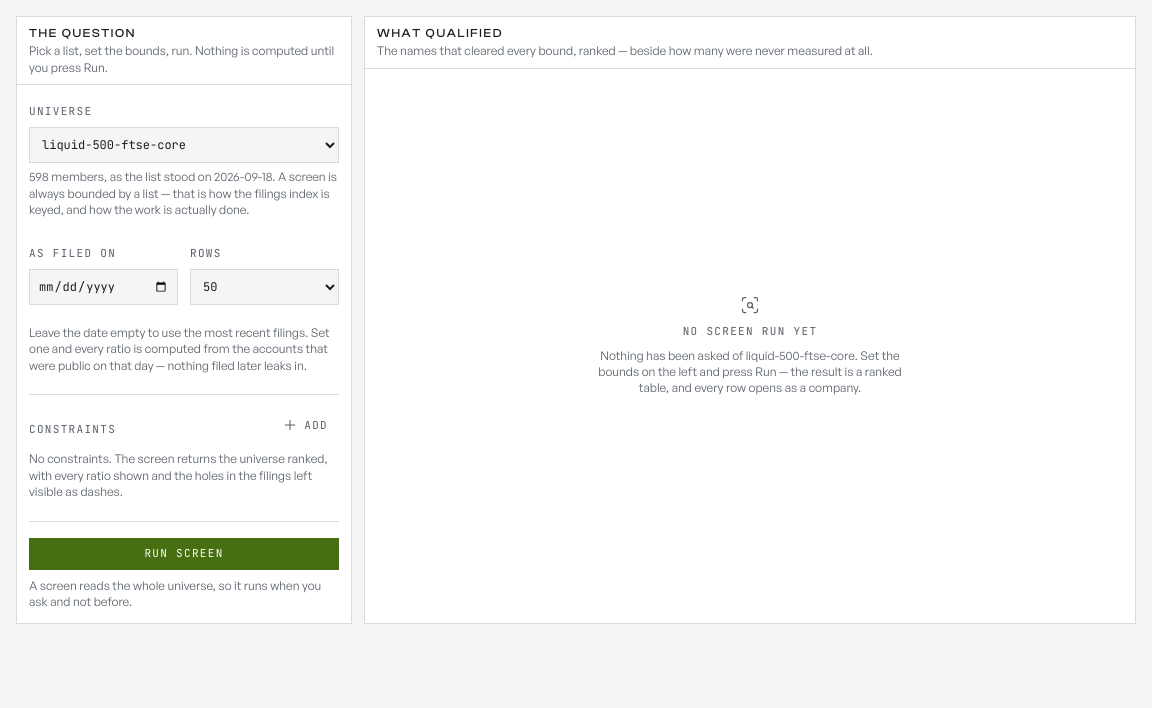
Test case: Screen — asking the question › will not run an unparseable bound, and marks the row instead
Check: the dropdown labelled "Universe" is shown, box [29,127,339,163]
Click the button "Add". click: (305, 425)
box: [271,411,339,439]
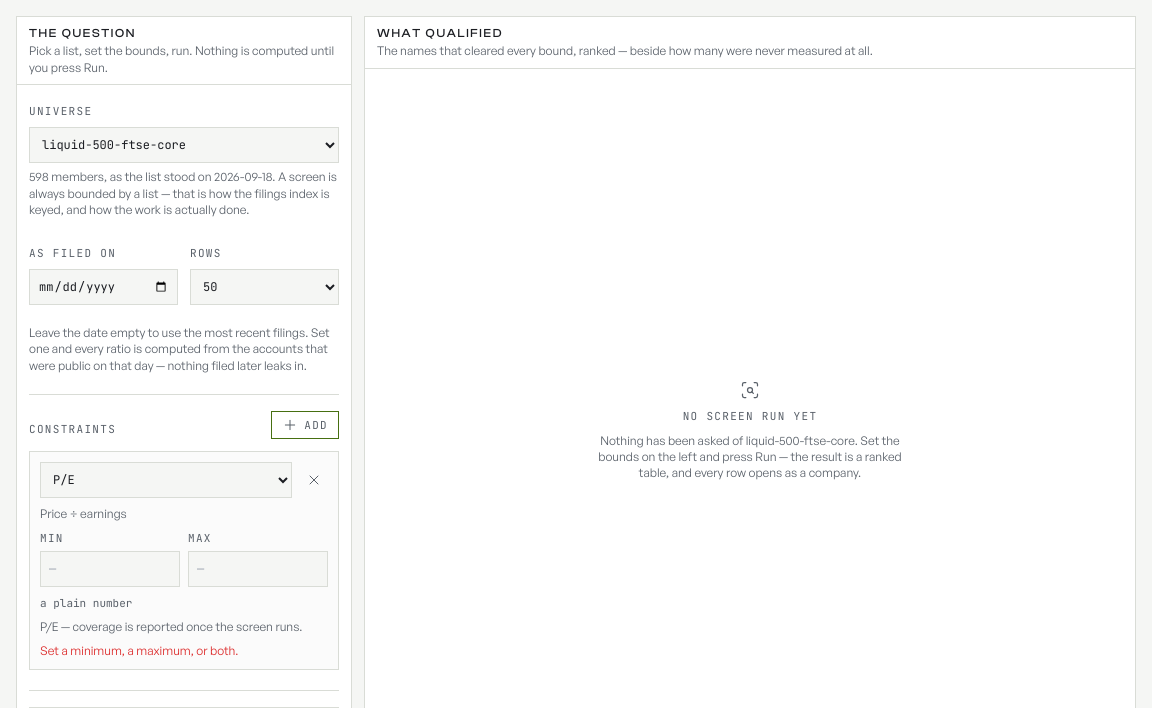
Type "cheap" into the field labelled "Min". click: (110, 568)
box: [40,550,180,586]
(page scrolled)
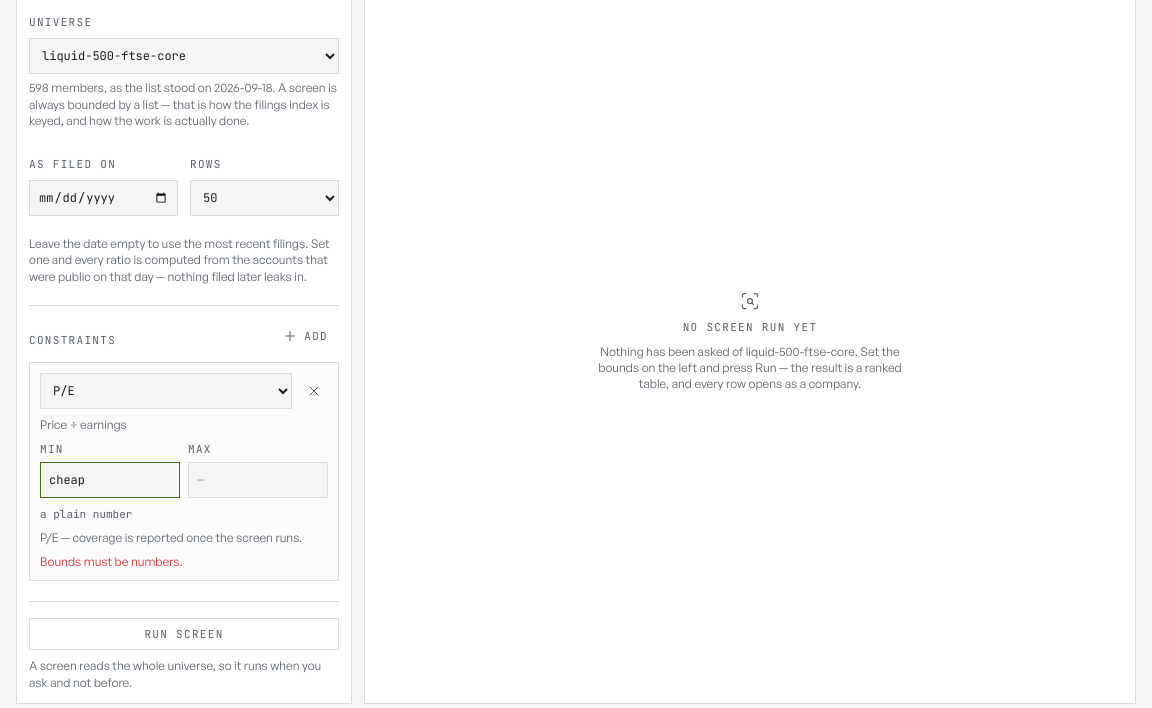
Check: the button with test id "run-screen" is disabled, box [29,618,339,650]
Check: the message shows "must be numbers", box [40,554,183,569]
